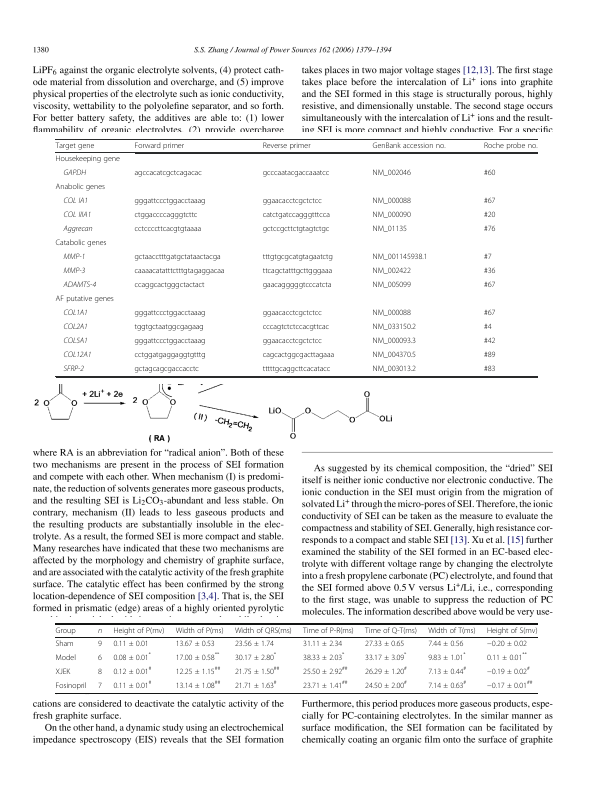borderless: (54, 137, 537, 376), (55, 622, 538, 693)
cell: (133, 266, 225, 276), (133, 252, 222, 262), (133, 196, 206, 206), (133, 308, 206, 318), (133, 336, 206, 346), (133, 350, 206, 360), (262, 350, 335, 360), (262, 252, 334, 262), (133, 280, 205, 290), (133, 322, 205, 332), (262, 266, 333, 276), (133, 168, 203, 178), (262, 280, 332, 290), (262, 210, 331, 220), (133, 224, 202, 234), (262, 364, 331, 374), (262, 168, 330, 178), (262, 224, 330, 234), (262, 322, 330, 332), (372, 141, 447, 150), (133, 364, 200, 374), (55, 154, 121, 164), (133, 210, 198, 220), (262, 196, 323, 206), (54, 294, 115, 304), (262, 308, 323, 318), (262, 336, 323, 346), (372, 252, 428, 262), (234, 626, 293, 635), (55, 238, 107, 248), (486, 679, 533, 690), (55, 182, 106, 192), (175, 665, 221, 676), (234, 665, 280, 676), (302, 665, 348, 676), (175, 679, 221, 690), (302, 679, 348, 690), (175, 651, 220, 662), (486, 665, 531, 676), (483, 141, 538, 150), (364, 626, 418, 635), (364, 665, 408, 676), (234, 679, 278, 690), (364, 679, 408, 690), (112, 626, 165, 635), (302, 626, 355, 635), (234, 651, 277, 662), (302, 651, 345, 662), (364, 651, 407, 662), (486, 626, 538, 635), (133, 141, 185, 150), (486, 651, 528, 662), (427, 626, 477, 635), (372, 322, 417, 332), (372, 336, 417, 346), (372, 350, 417, 360), (372, 364, 417, 374), (175, 626, 224, 635), (262, 141, 311, 150), (112, 651, 152, 662), (427, 651, 467, 662), (112, 665, 152, 676), (427, 665, 467, 676), (112, 679, 152, 690), (427, 679, 467, 690), (372, 168, 412, 178), (372, 196, 412, 206), (372, 210, 412, 220), (372, 266, 412, 276), (372, 280, 412, 290), (372, 308, 412, 318), (486, 639, 528, 648), (175, 639, 216, 648), (234, 639, 275, 648), (302, 639, 343, 648), (364, 639, 405, 648), (55, 141, 95, 150), (372, 224, 408, 234), (112, 639, 150, 648), (427, 639, 464, 648), (62, 280, 97, 289), (62, 224, 93, 234), (62, 210, 92, 220), (55, 681, 87, 690), (62, 196, 89, 206), (62, 350, 92, 359), (62, 168, 87, 178), (62, 308, 89, 317), (62, 322, 89, 331), (62, 336, 89, 345), (62, 252, 86, 261), (62, 266, 86, 275), (62, 364, 85, 373), (55, 653, 77, 662), (55, 626, 76, 635), (55, 639, 74, 648), (55, 667, 71, 676), (483, 168, 496, 178), (483, 196, 496, 206), (483, 210, 496, 220), (483, 224, 496, 234), (483, 266, 496, 276), (483, 280, 496, 290), (483, 308, 496, 318), (483, 336, 496, 346), (483, 350, 496, 360), (483, 364, 496, 374), (483, 252, 492, 262), (483, 322, 492, 332), (97, 639, 103, 648), (97, 653, 103, 662), (97, 667, 103, 676), (97, 681, 103, 690), (97, 628, 103, 634)
